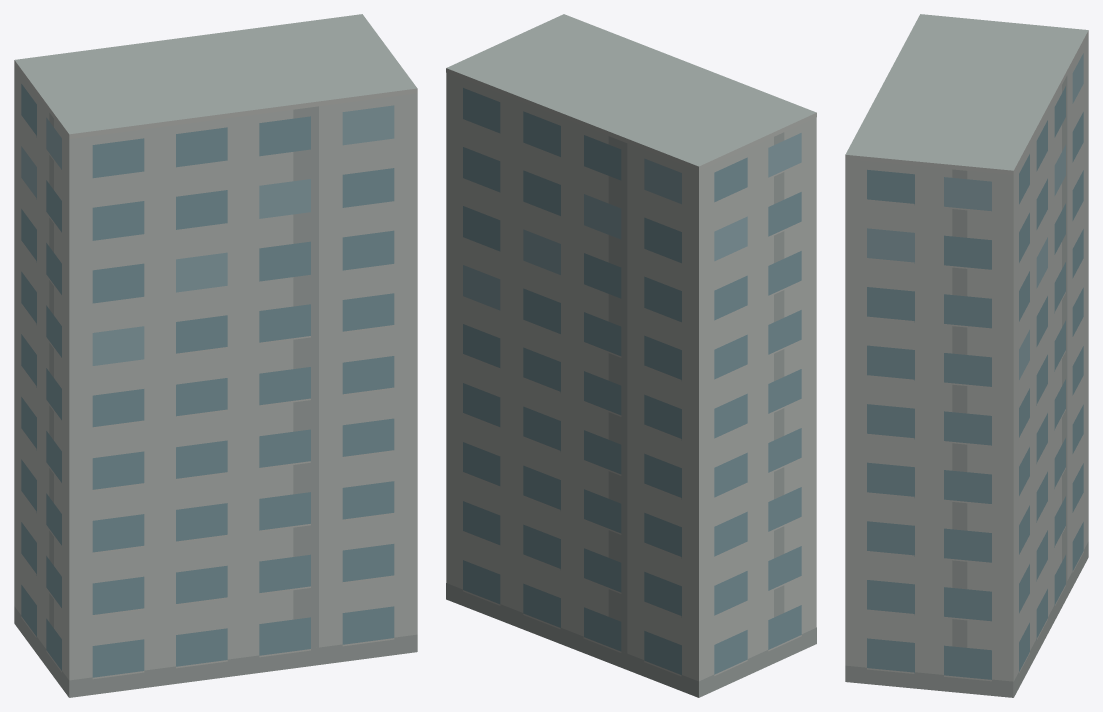
File: residential-b232b4be-a9c8-44c5-acf2-c19058d1f156.glb
The picture shows the model from 3 angles, left to right: view 1: azimuth 30°, elevation 25°; view 2: azimuth 150°, elevation 25°; view 3: azimuth 270°, elevation 25°; orthographic projection. The views are drawn at different scales.
Parts seen in each view (by area): view 1: residential-b232b4be-a9c8-44c5-acf2-c19058d1f156.tmp; view 2: residential-b232b4be-a9c8-44c5-acf2-c19058d1f156.tmp; view 3: residential-b232b4be-a9c8-44c5-acf2-c19058d1f156.tmp.
Boxes of the visible parts, x1=… form: residential-b232b4be-a9c8-44c5-acf2-c19058d1f156.tmp: x1=14, y1=14, x2=417, y2=697; residential-b232b4be-a9c8-44c5-acf2-c19058d1f156.tmp: x1=446, y1=14, x2=816, y2=697; residential-b232b4be-a9c8-44c5-acf2-c19058d1f156.tmp: x1=845, y1=14, x2=1088, y2=697.
Size of the model in its own units: 17.86 by 28 by 11.72.
